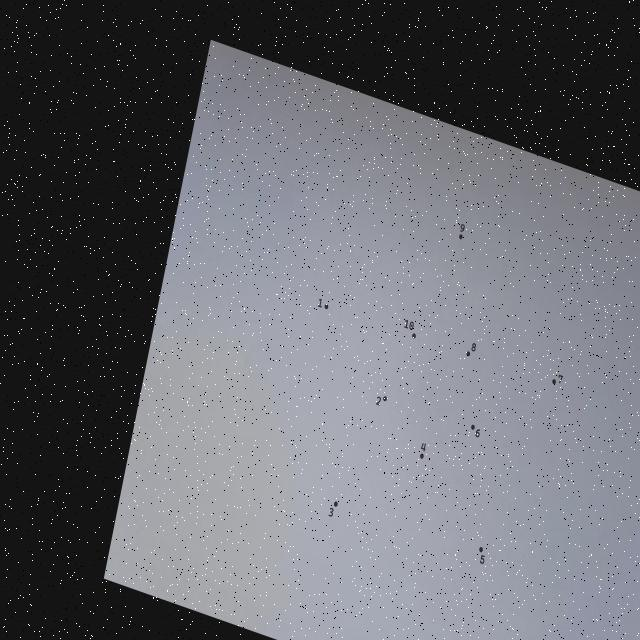Dot: (324, 304, 329, 309), (466, 351, 471, 356), (412, 333, 416, 339), (383, 396, 387, 402), (334, 501, 338, 507), (420, 453, 424, 459), (479, 546, 483, 552), (471, 424, 475, 430), (459, 234, 463, 240), (552, 379, 556, 384)
DotNumber: (404, 319, 416, 339), (328, 501, 338, 517), (466, 343, 476, 357), (318, 298, 329, 310), (471, 424, 480, 438), (552, 374, 563, 385), (376, 396, 387, 406), (479, 546, 485, 564), (420, 443, 426, 459), (459, 224, 465, 239)
Number: (404, 320, 414, 330), (328, 507, 334, 517), (376, 396, 381, 406), (480, 555, 485, 565), (471, 342, 476, 352), (558, 374, 563, 384), (421, 443, 426, 452), (476, 428, 480, 438), (460, 224, 465, 232), (318, 299, 322, 308)
